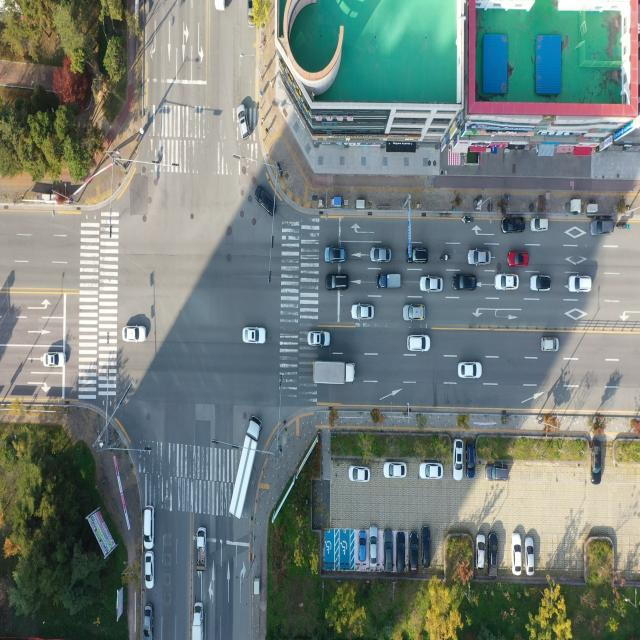car: (255, 186, 275, 217), (592, 438, 604, 481), (143, 504, 154, 548), (421, 526, 432, 569), (452, 438, 463, 479), (486, 463, 509, 482), (458, 361, 482, 379), (243, 327, 267, 345), (490, 531, 500, 574), (238, 105, 250, 140), (384, 530, 394, 572), (420, 462, 443, 480), (457, 366, 480, 384), (396, 533, 406, 573), (525, 537, 535, 577), (411, 531, 421, 571), (409, 336, 431, 354), (502, 216, 524, 234), (142, 604, 153, 640), (569, 276, 592, 293), (368, 530, 378, 568), (309, 332, 331, 349), (44, 351, 66, 368), (405, 306, 427, 323), (326, 275, 348, 292), (511, 536, 520, 577), (124, 328, 147, 344), (454, 276, 477, 292), (144, 553, 154, 589), (408, 247, 429, 264), (496, 276, 518, 292), (352, 306, 374, 322), (420, 278, 442, 294), (384, 462, 406, 478), (468, 250, 490, 266), (592, 219, 614, 235), (324, 247, 346, 263), (478, 536, 488, 571), (466, 441, 476, 476), (350, 466, 370, 483), (530, 276, 551, 292), (509, 252, 530, 267), (358, 530, 367, 564), (372, 248, 392, 263), (540, 338, 558, 353), (531, 218, 548, 232), (248, 0, 255, 29)
medium_truck: (228, 417, 260, 518), (314, 358, 357, 385)
small_truck: (192, 603, 204, 640), (198, 526, 208, 570), (377, 274, 402, 291), (214, 0, 225, 12)
